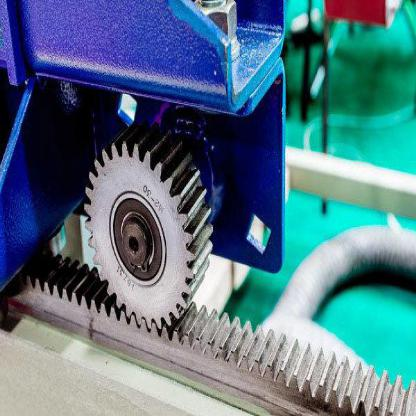FOD: (83, 125, 214, 332)
